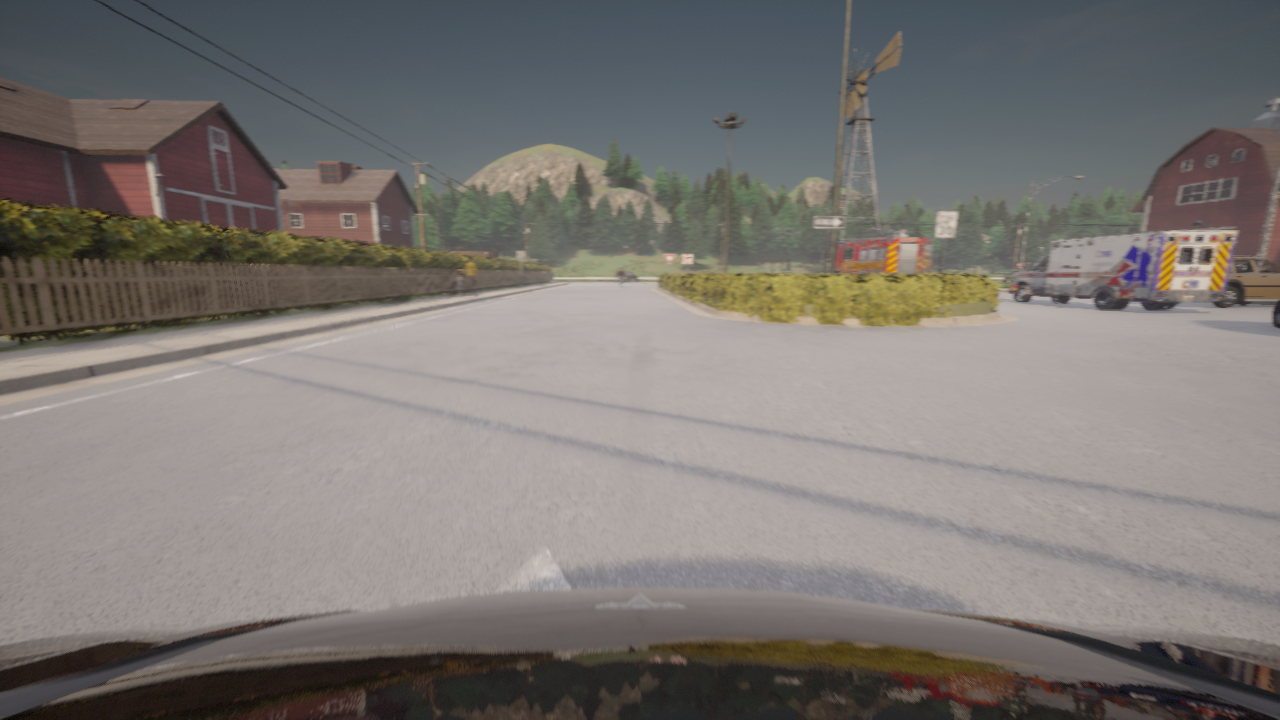cyclist: (0, 588, 1279, 719), (1009, 231, 1236, 310), (1177, 255, 1279, 307), (835, 230, 931, 274), (613, 270, 638, 283), (1272, 300, 1279, 327), (1003, 271, 1018, 282), (620, 282, 622, 285)
pedestrian: (463, 255, 477, 298), (456, 272, 465, 296)
